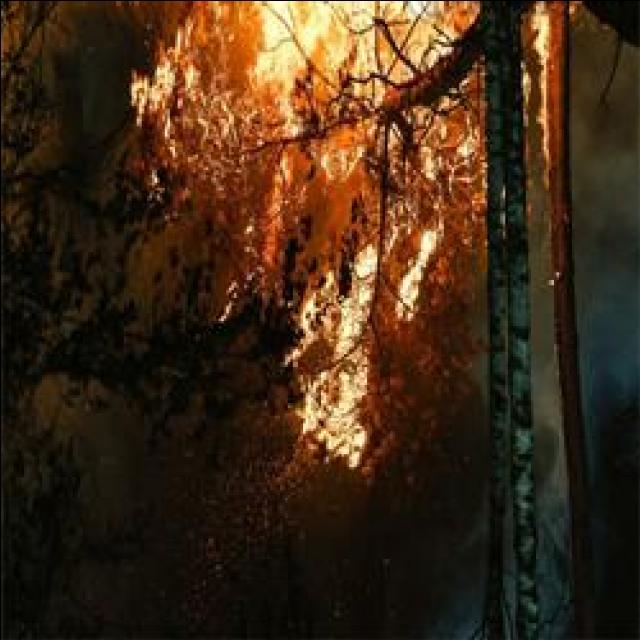fire: (292, 256, 374, 470), (242, 0, 380, 127), (390, 225, 444, 322), (133, 50, 190, 122)
